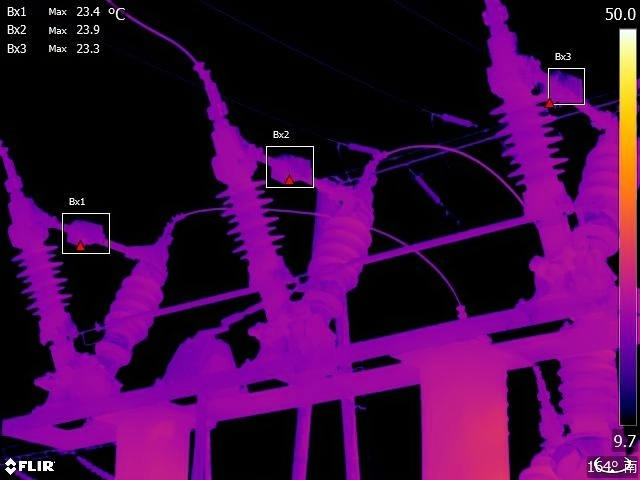insulator: (416, 171, 446, 208), (434, 108, 477, 132), (345, 144, 379, 156)
post insulator: (206, 171, 291, 278), (490, 82, 572, 192), (97, 259, 173, 352), (306, 208, 391, 291), (9, 237, 79, 327), (575, 135, 640, 229)
switch: (191, 70, 388, 196), (475, 11, 640, 145), (2, 151, 178, 263)
